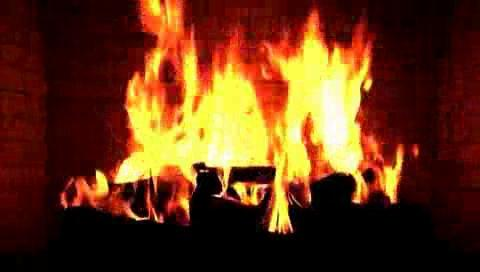fire: (44, 0, 467, 229)
